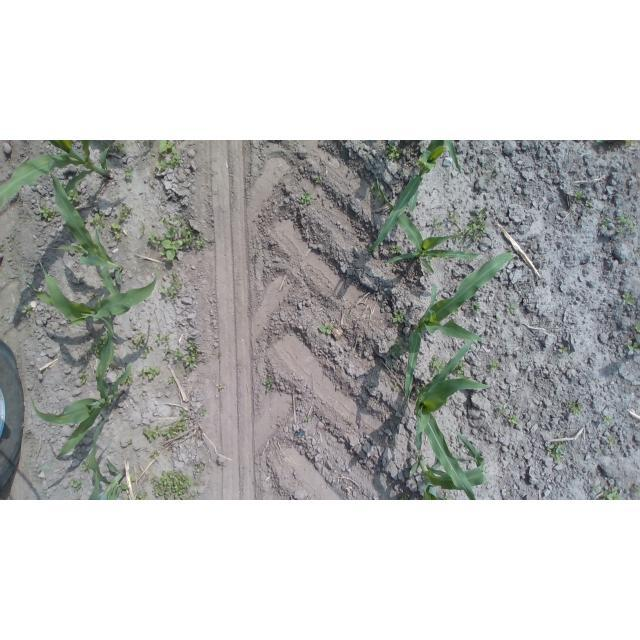Maize: (407, 251, 516, 413), (28, 312, 132, 473), (414, 340, 493, 500), (376, 178, 481, 274), (47, 158, 124, 287), (20, 258, 158, 328), (367, 140, 446, 252), (0, 141, 110, 216), (409, 426, 487, 500), (83, 416, 125, 500), (405, 140, 463, 176)
Weeds: (151, 470, 196, 500), (159, 226, 183, 260), (466, 208, 487, 242), (92, 332, 108, 365), (546, 435, 564, 463), (132, 334, 152, 359), (155, 156, 181, 172), (163, 422, 187, 439), (452, 359, 471, 380), (386, 142, 403, 163), (143, 425, 163, 442), (161, 283, 182, 298), (429, 355, 443, 376), (140, 366, 161, 380), (89, 211, 105, 229), (391, 339, 406, 358), (602, 488, 623, 501), (39, 204, 55, 221), (370, 182, 384, 201), (159, 140, 178, 154), (185, 353, 200, 368), (569, 400, 583, 416), (182, 228, 194, 245), (66, 188, 80, 202), (147, 232, 162, 245), (120, 206, 133, 221), (79, 368, 90, 384), (301, 192, 314, 205), (114, 141, 126, 155), (393, 312, 406, 324), (622, 293, 635, 305), (156, 333, 169, 345), (319, 324, 333, 335), (71, 480, 85, 491), (448, 210, 459, 224), (195, 233, 205, 248), (100, 141, 113, 152), (124, 167, 135, 180), (617, 215, 632, 224), (508, 414, 520, 425), (604, 414, 615, 426), (574, 190, 585, 202), (80, 460, 90, 473), (173, 348, 183, 361), (186, 340, 197, 351), (627, 342, 639, 352), (117, 482, 129, 492), (433, 217, 443, 229), (125, 372, 134, 385), (490, 358, 499, 371), (170, 216, 183, 225), (455, 229, 464, 241), (263, 379, 272, 391), (391, 244, 401, 254), (558, 344, 568, 354), (607, 437, 617, 447), (22, 305, 32, 315), (507, 304, 518, 313), (471, 301, 480, 312), (488, 172, 496, 184), (111, 222, 123, 230), (499, 405, 508, 415), (137, 492, 148, 500), (633, 320, 640, 332), (179, 408, 186, 420), (600, 219, 609, 228), (160, 218, 169, 227), (170, 273, 178, 283), (625, 141, 636, 148), (413, 454, 424, 461), (400, 493, 410, 500), (452, 306, 460, 314), (592, 484, 600, 492), (392, 383, 399, 392), (150, 451, 159, 458), (114, 232, 123, 239), (596, 141, 608, 146), (585, 200, 593, 207), (427, 256, 436, 262), (616, 227, 625, 233), (117, 370, 123, 379), (630, 224, 637, 231), (444, 492, 450, 500), (168, 376, 174, 384), (60, 181, 66, 189), (196, 467, 203, 473), (306, 415, 313, 421), (129, 475, 135, 482), (315, 177, 322, 183), (183, 369, 189, 376), (493, 317, 501, 322), (219, 383, 225, 389), (163, 347, 169, 353), (209, 239, 216, 244), (494, 409, 499, 415), (638, 484, 640, 498), (594, 447, 601, 451), (163, 356, 170, 360), (90, 292, 95, 297), (413, 482, 417, 488), (125, 440, 131, 444), (202, 410, 206, 416), (408, 148, 412, 153), (252, 252, 257, 256), (508, 248, 512, 252), (140, 228, 144, 232), (522, 367, 527, 370), (123, 498, 129, 500)
